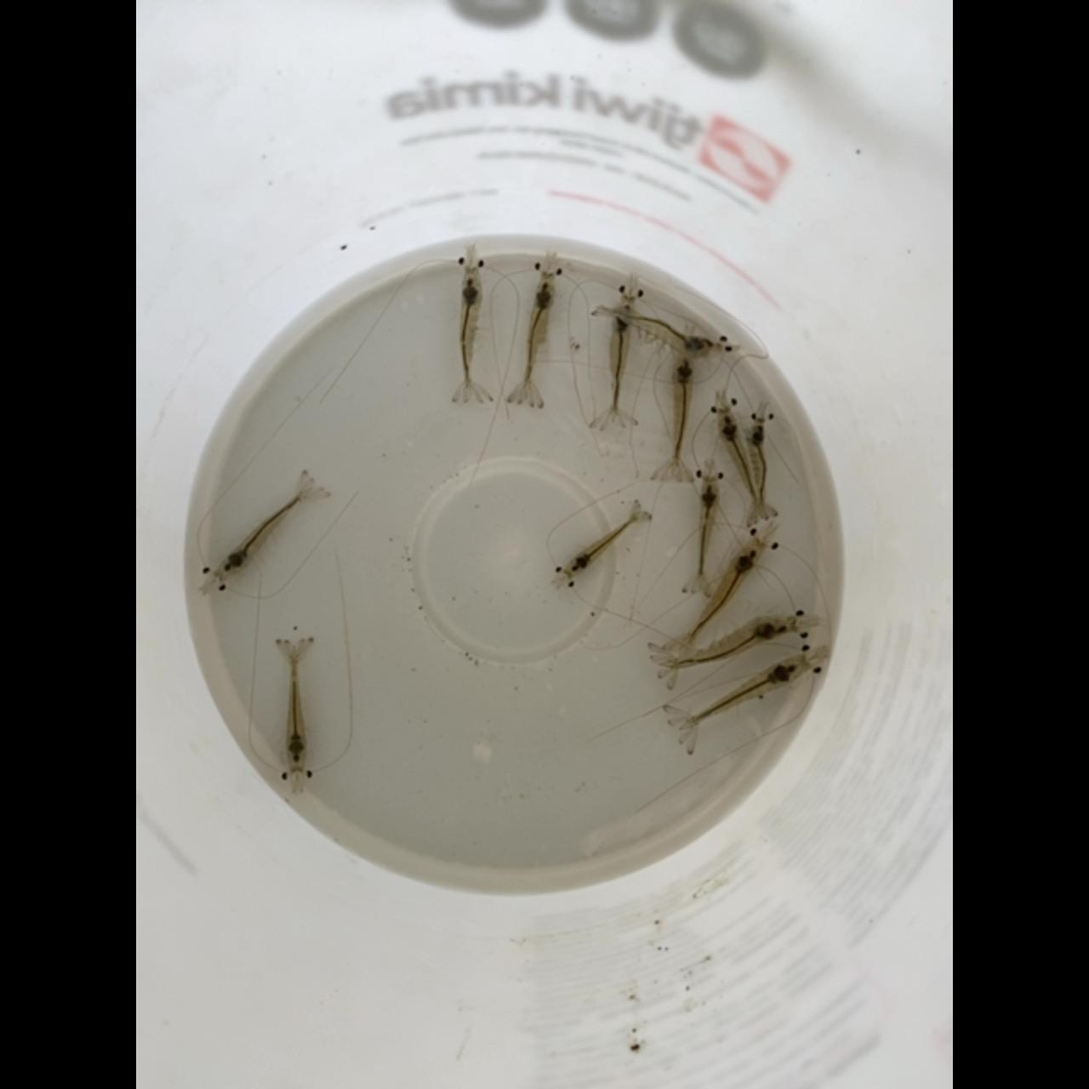round_base: (209, 251, 816, 869)
top_shrimp: (678, 654, 808, 729), (680, 539, 765, 652), (217, 487, 312, 579), (661, 615, 795, 669), (604, 305, 721, 356), (566, 510, 640, 577), (716, 409, 758, 512), (524, 274, 556, 398), (609, 296, 634, 419), (459, 268, 482, 395), (286, 644, 307, 771), (698, 477, 721, 587), (673, 351, 693, 471), (751, 423, 766, 515)
